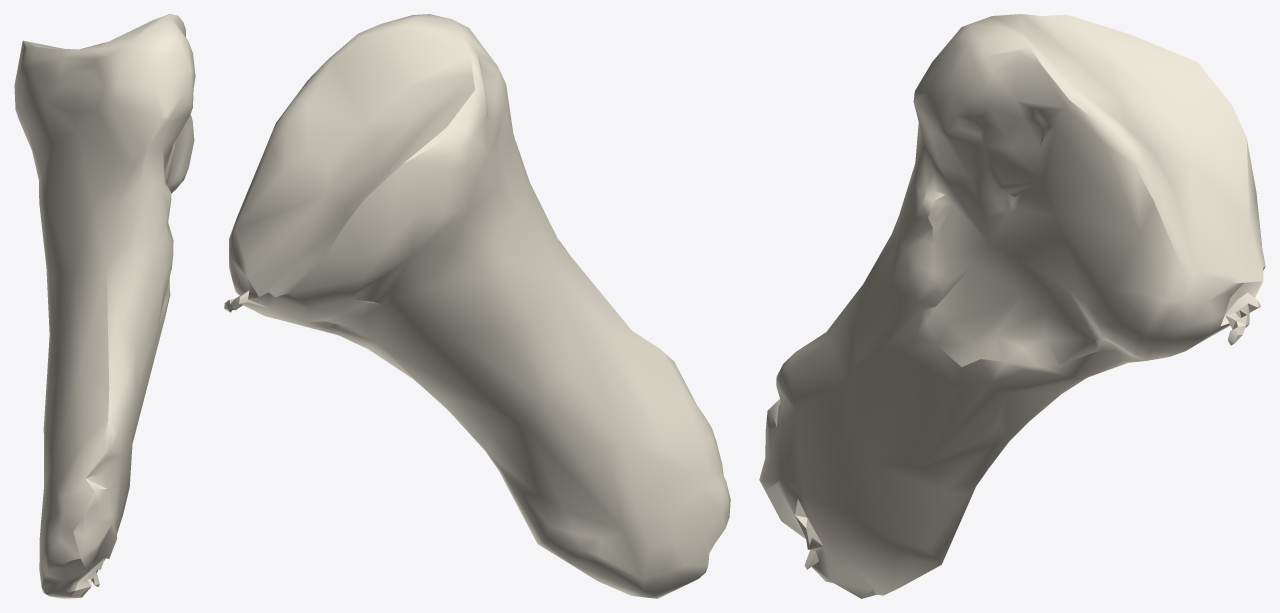
The model's file is fma24459.glb.
The picture shows the model from 3 angles, left to right: view 1: azimuth 30°, elevation 25°; view 2: azimuth 150°, elevation 25°; view 3: azimuth 270°, elevation 25°; orthographic projection. The views are drawn at different scales.
Visible parts, largest first — view 1: FMA24459; view 2: FMA24459; view 3: FMA24459.
Part boxes in pixels (<box>): FMA24459: <box>14,14,195,598</box>; FMA24459: <box>224,14,730,598</box>; FMA24459: <box>759,14,1265,598</box>.
Size of the model in its own units: 0.0138 by 0.0234 by 0.0163.
